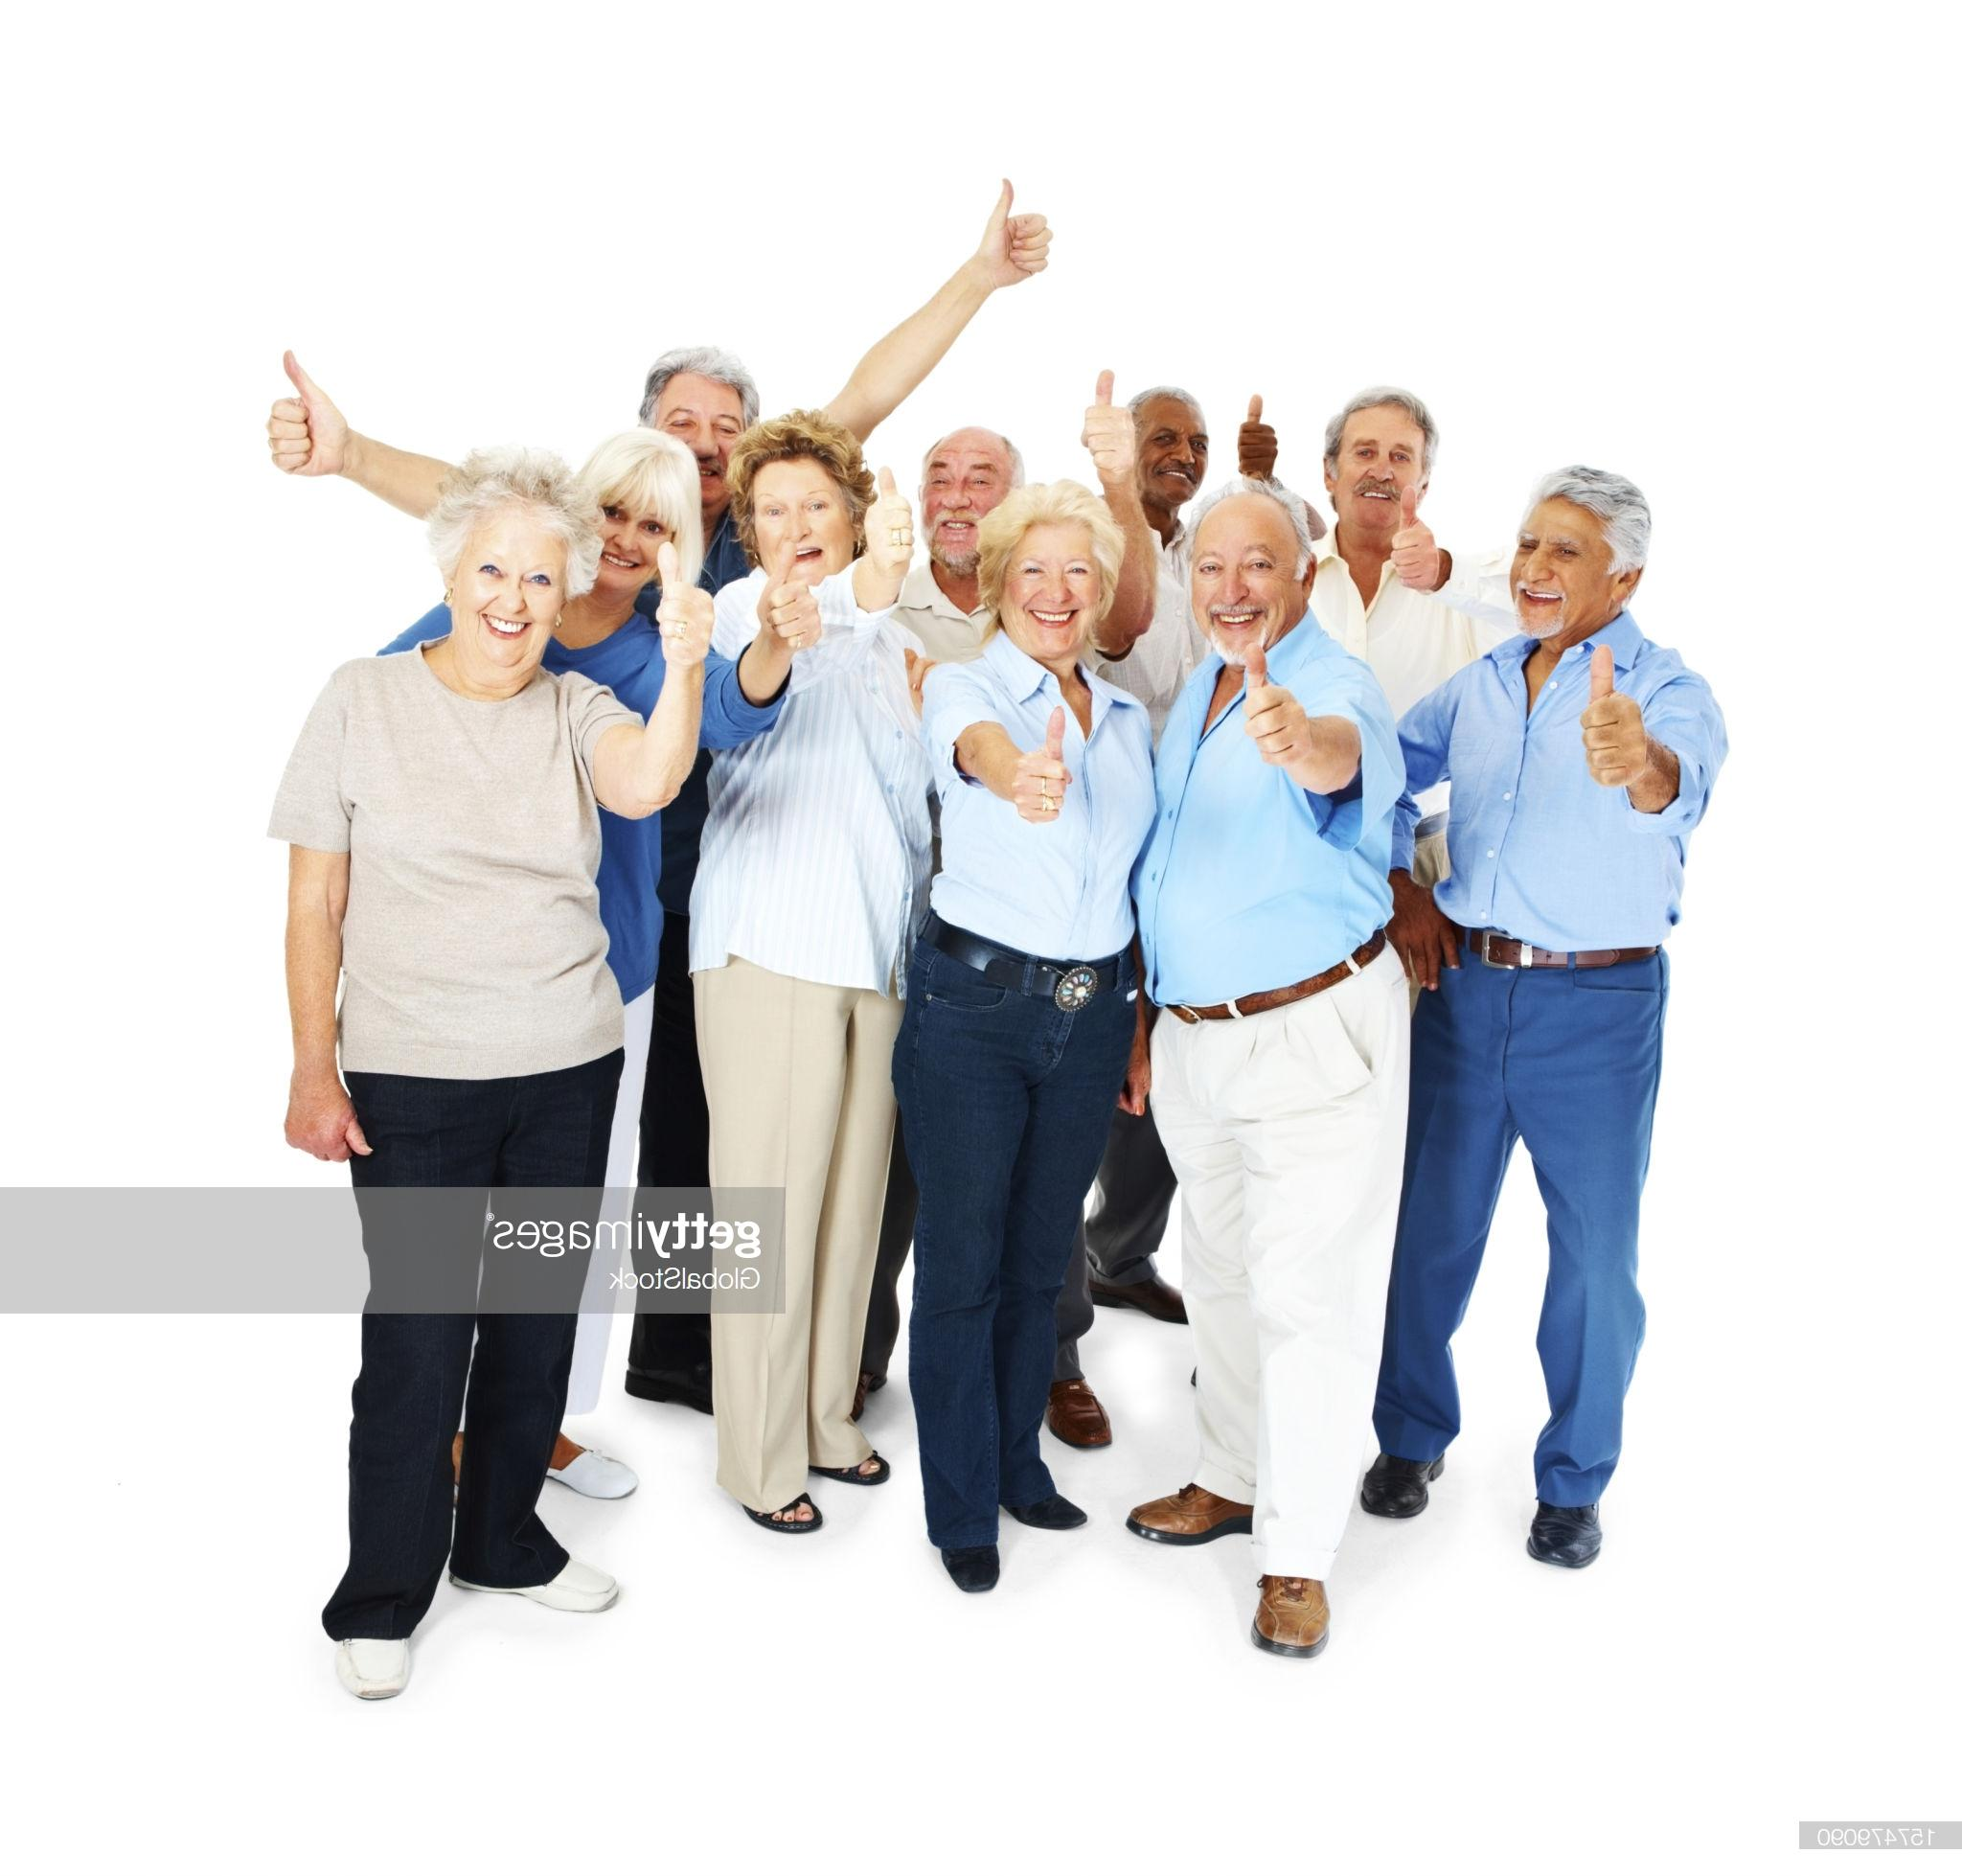thumbsup: (1580, 645, 1648, 788), (1244, 641, 1312, 765), (265, 349, 328, 476), (655, 541, 716, 666), (1011, 706, 1072, 825), (767, 541, 823, 650), (1079, 370, 1135, 475), (999, 177, 1055, 273), (864, 466, 914, 566), (1393, 485, 1440, 590), (1239, 394, 1279, 475)
